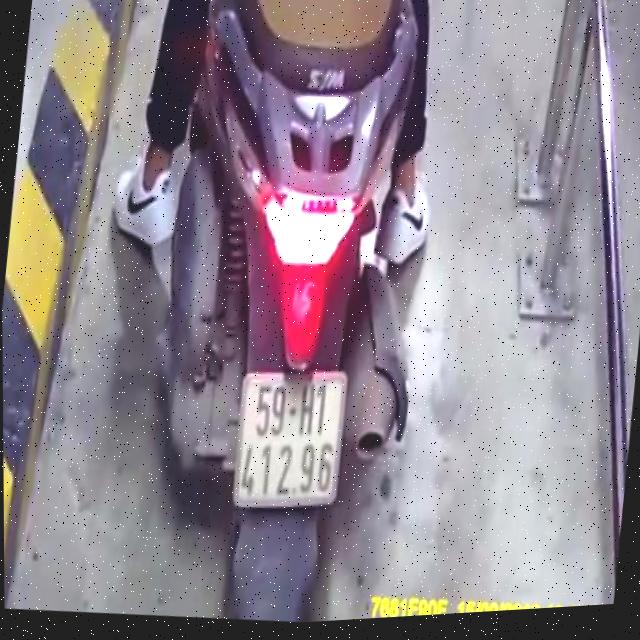motorcycle: (107, 0, 469, 634)
plate: (225, 360, 355, 526)
